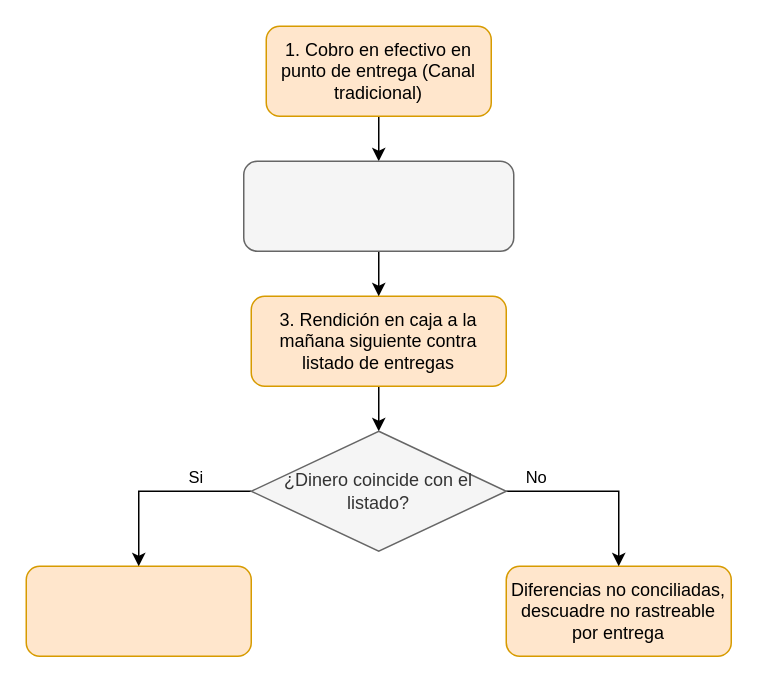
Some shapes in this 758 by 683 pixel diagram are drawn without their labels. The centre of each missing label's shape, as x and y in pixels:
"2. El conductor conserva el dinero hasta su regreso" belongs at point (378, 205).
"Registro coincide" belongs at point (138, 610).
